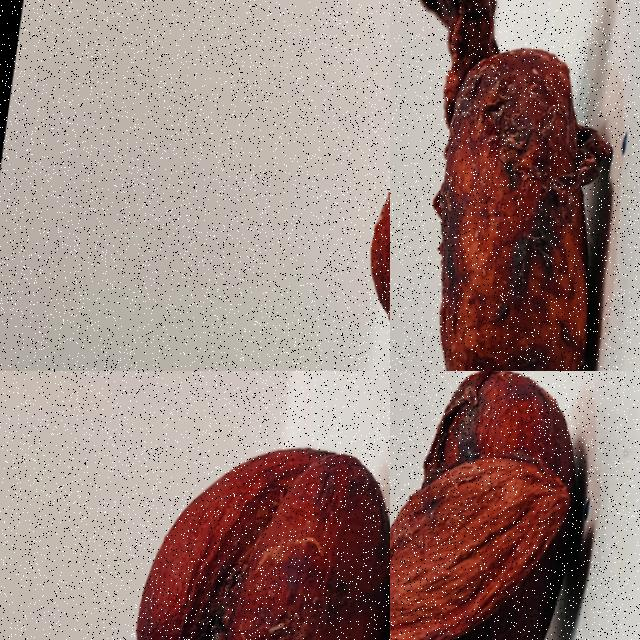Agglomerated_cocoabeans: (390, 0, 639, 370), (65, 371, 389, 639), (390, 371, 638, 639), (277, 0, 389, 370)
